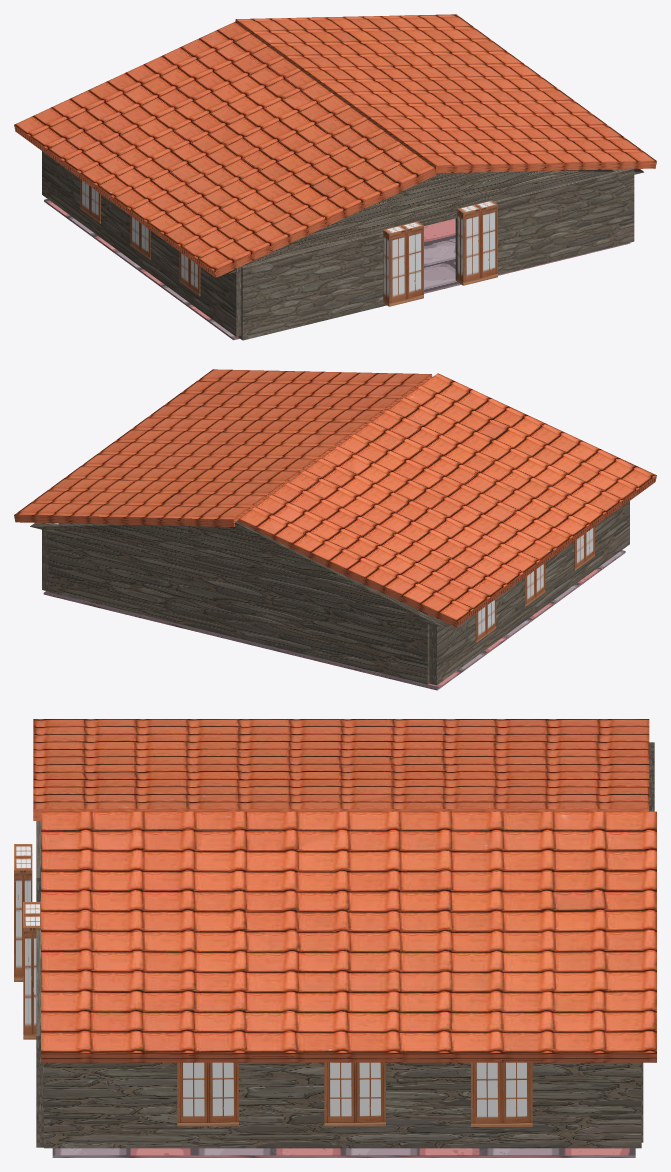
Rendered from market.obj.
The picture shows the model from 3 angles, top to bottom: view 1: azimuth 30°, elevation 25°; view 2: azimuth 150°, elevation 25°; view 3: azimuth 270°, elevation 25°; orthographic projection. The views are drawn at different scales.
Visible parts, largest first — view 1: Box3, Box2, Left_Wall2, Left_Wall3, Left_Wall4, Left_Wall, Ceiling1, Right_Left_Window4, Right_Left_Window3, Right_Left_Window1, Right_Left_Window2, Right_Right_Window1; view 2: Box3, Box2, Left_Wall1, Left_Wall5, Left_Wall, Ceiling1, Right_Left_Window2, Right_Left_Window1, Right_Right_Window1; view 3: Box2, Box3, Right_Wall, Ceiling1, Right_Left_Window, Right_Left_Window5, Right_Right_Window, Right_Left_Window4, Right_Left_Window3, Left_Wall3.
Boxes of the visible parts, x1,y1,x2,y2 form: Box3: [14, 22, 436, 277]; Box2: [235, 14, 656, 173]; Left_Wall2: [238, 232, 386, 340]; Left_Wall3: [455, 168, 634, 280]; Left_Wall4: [227, 169, 643, 273]; Left_Wall: [42, 151, 244, 336]; Ceiling1: [44, 199, 630, 340]; Right_Left_Window4: [457, 200, 497, 285]; Right_Left_Window3: [383, 221, 423, 306]; Right_Left_Window1: [179, 252, 200, 296]; Right_Left_Window2: [80, 179, 100, 223]; Right_Right_Window1: [130, 216, 150, 259]; Box3: [238, 373, 656, 627]; Box2: [14, 369, 432, 526]; Left_Wall1: [48, 523, 429, 684]; Left_Wall5: [30, 520, 447, 627]; Left_Wall: [429, 501, 629, 685]; Ceiling1: [43, 550, 625, 690]; Right_Left_Window2: [475, 599, 496, 642]; Right_Left_Window1: [574, 526, 594, 570]; Right_Right_Window1: [525, 563, 545, 606]; Box2: [41, 811, 656, 1062]; Box3: [33, 719, 649, 820]; Right_Wall: [44, 1062, 641, 1148]; Ceiling1: [52, 1148, 635, 1157]; Right_Left_Window: [177, 1062, 238, 1126]; Right_Left_Window5: [324, 1062, 385, 1126]; Right_Right_Window: [471, 1062, 532, 1126]; Right_Left_Window4: [23, 902, 40, 1039]; Right_Left_Window3: [14, 844, 32, 981]; Left_Wall3: [36, 930, 43, 1147].
Size of the model in its own units: 12.82 by 3.54 by 10.44.
